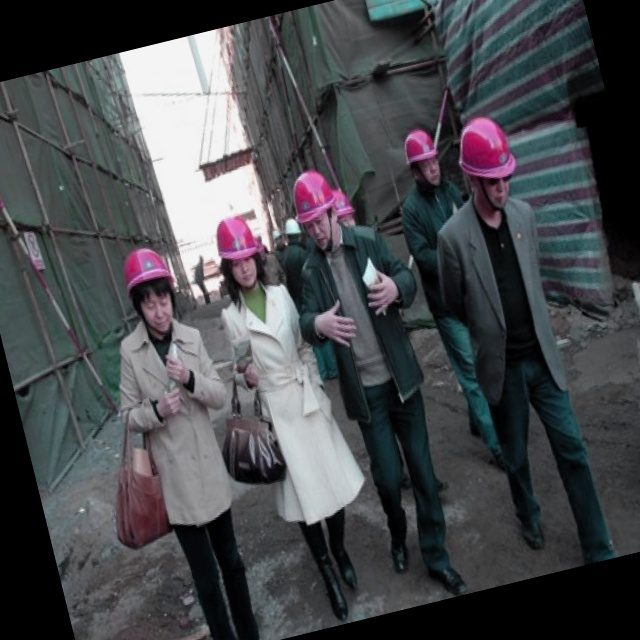Con_Casco: (450, 111, 527, 213), (116, 242, 186, 337)
